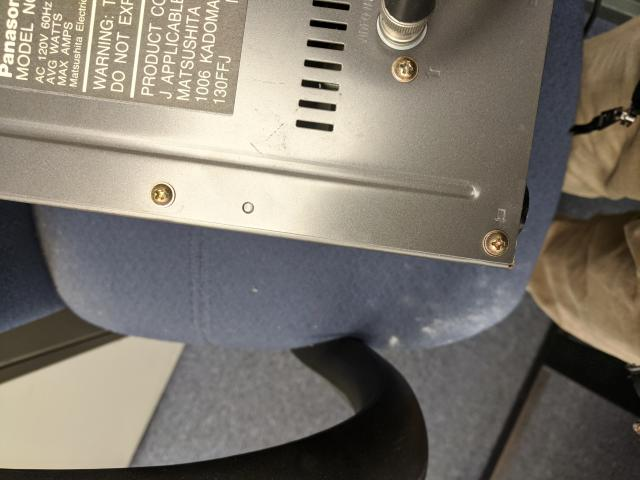CRS: (394, 54, 420, 82), (150, 182, 177, 208), (483, 231, 510, 256)
